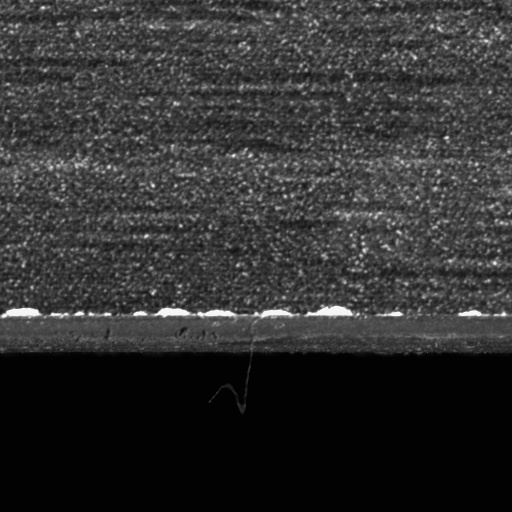huashang: (305, 305, 354, 318), (255, 307, 295, 320), (155, 306, 194, 318), (2, 306, 44, 317), (196, 309, 235, 317), (456, 309, 489, 317)
